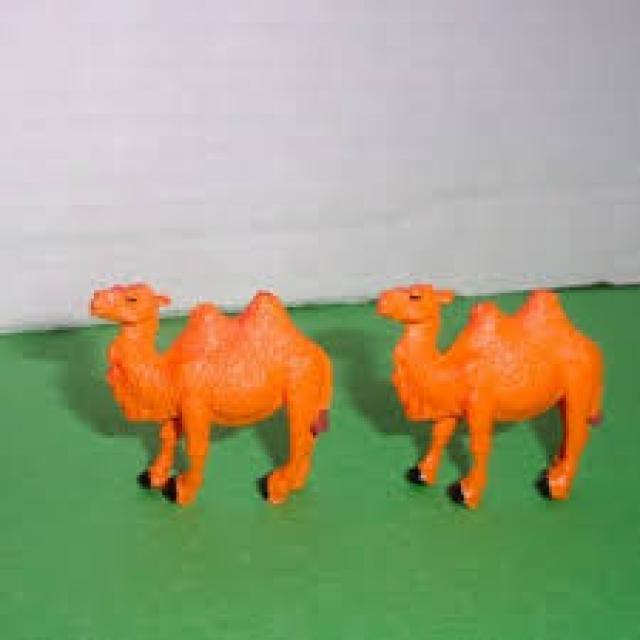hard-toy: (92, 285, 332, 505), (377, 291, 602, 508)
